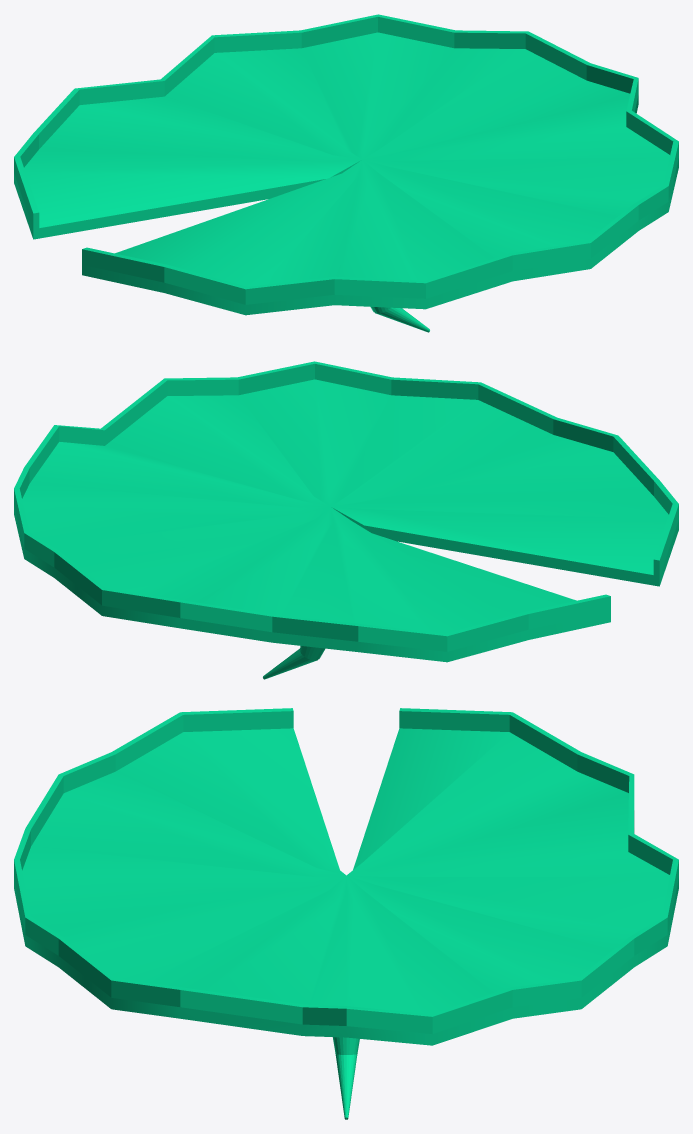
File: Lillypad.fbx
3 renders of one model, top to bottom at view 1: azimuth 30°, elevation 25°; view 2: azimuth 150°, elevation 25°; view 3: azimuth 270°, elevation 25°, orthographic. The views are drawn at different scales.
Parts seen in each view (by area): view 1: pCylinder1; view 2: pCylinder1; view 3: pCylinder1.
Boxes of the visible parts, x1=… form: pCylinder1: x1=14, y1=14, x2=678, y2=332; pCylinder1: x1=14, y1=361, x2=678, y2=679; pCylinder1: x1=14, y1=708, x2=678, y2=1119.
Size of the model in its own units: 2.23 by 0.7456 by 2.
